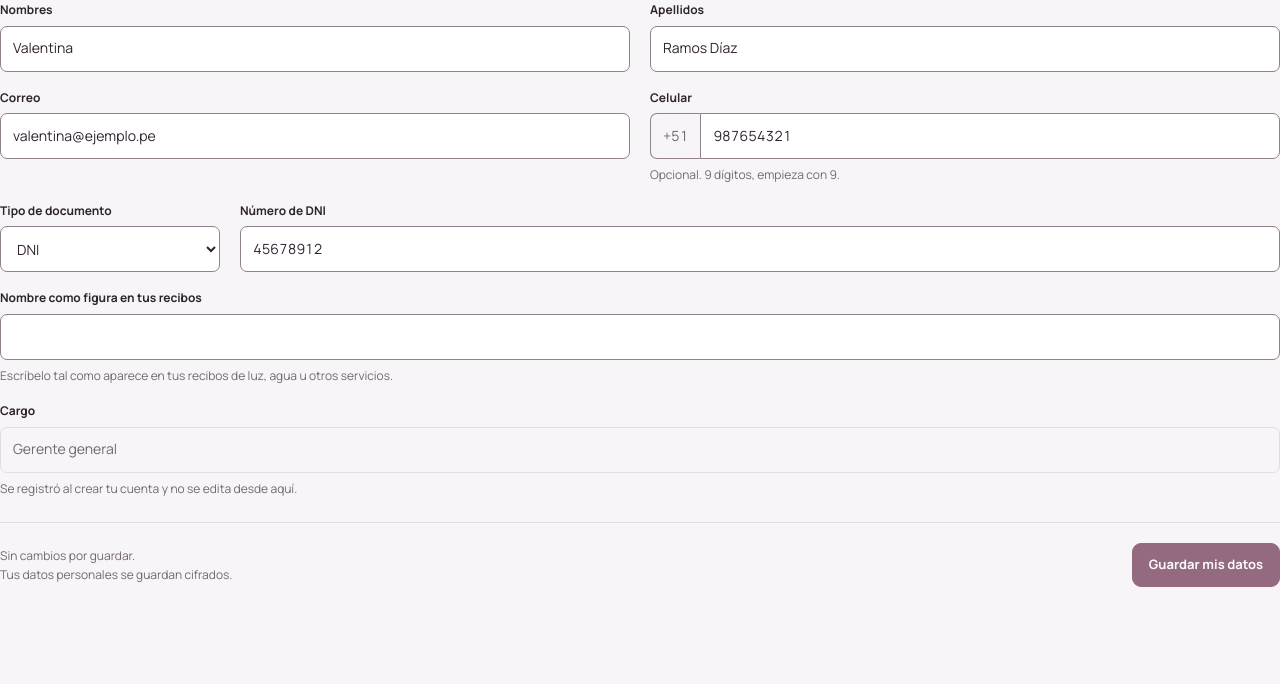
Test: FormularioDatosPersonales › abre una ventana ordenada si la actualización falla
Replace the text in the field labelled "Correo" with "ajeno@ejemplo.pe": (315, 136) top-left (0, 113), bottom-right (630, 159)
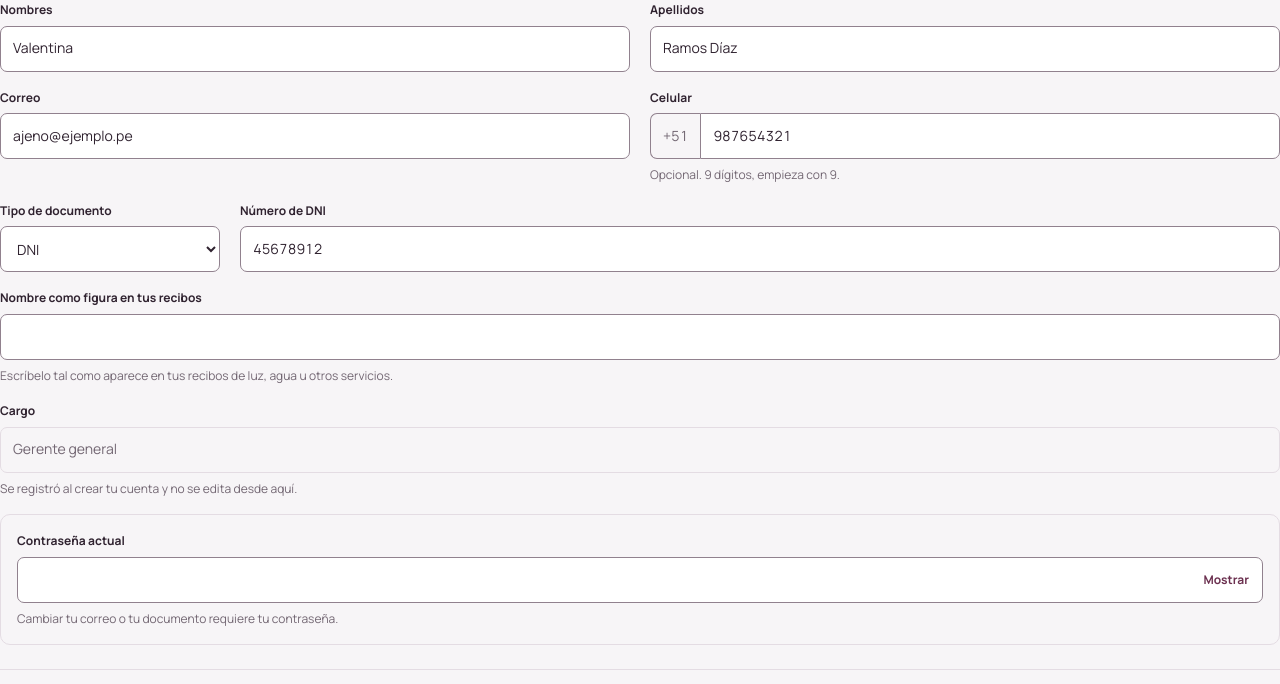
In the password field labelled "Contraseña actual": (640, 580) top-left (17, 556), bottom-right (1263, 602), type "Secreta-2026"
(page scrolled)
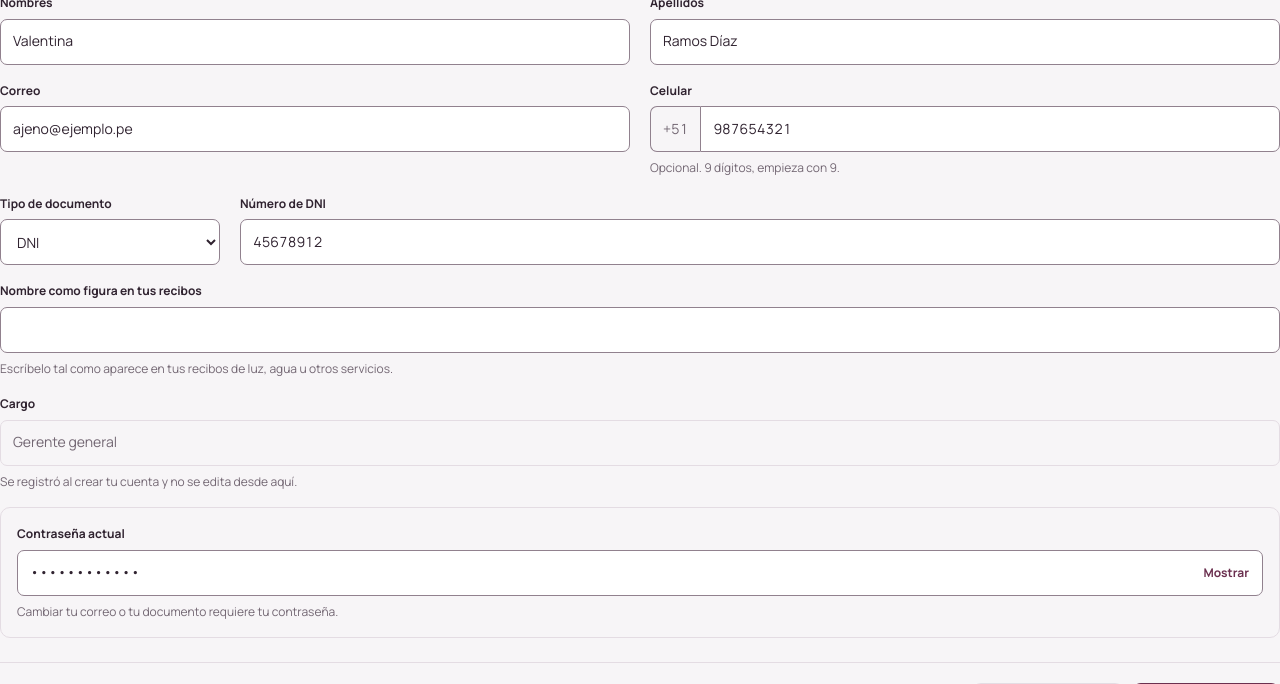
Submit the form
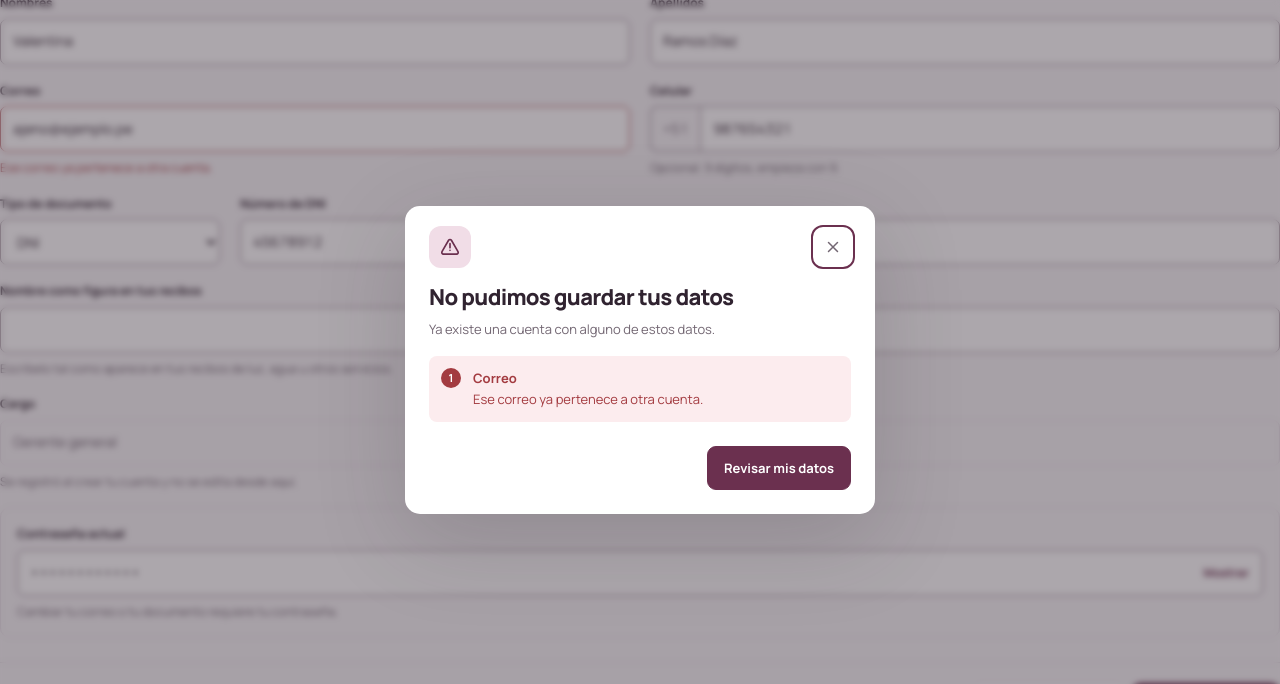
Check: the dialog shows "No pudimos guardar tus datos", box top-left (429, 282), bottom-right (733, 312)
Check: the dialog shows "Ese correo ya pertenece a otra cuenta.", box top-left (473, 390), bottom-right (703, 408)
